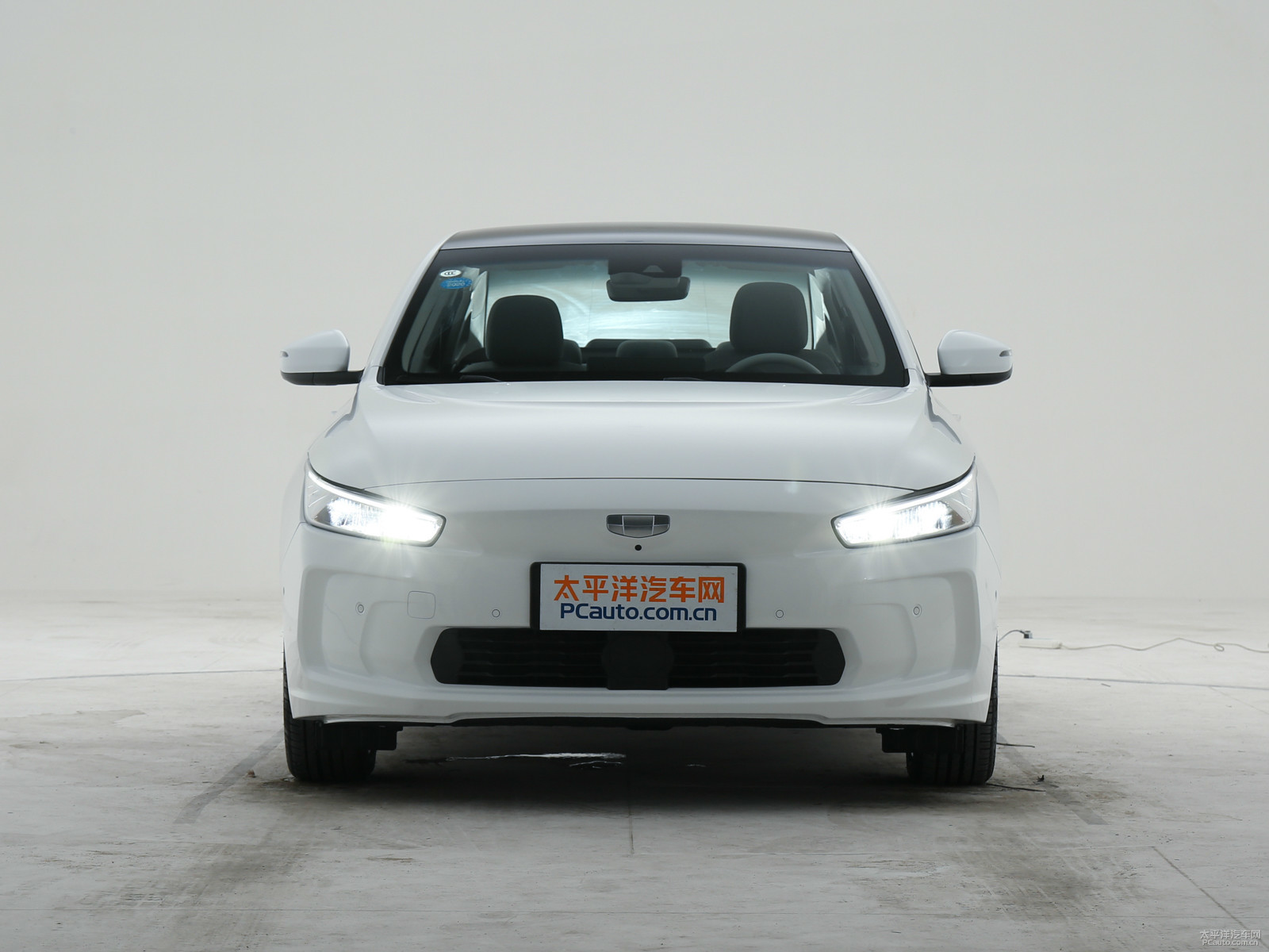GEOMETRY: (607, 515, 669, 538)
